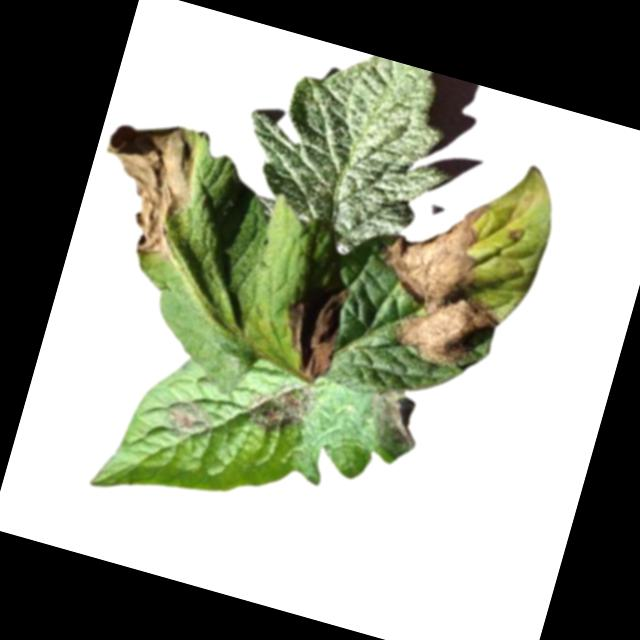Late_blight: (351, 179, 531, 381), (75, 105, 211, 263), (269, 273, 352, 387), (238, 368, 318, 442), (358, 377, 430, 456), (158, 392, 221, 447)
